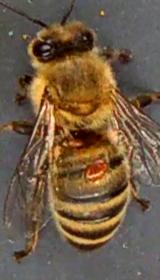varroa_mite: (82, 153, 114, 182)
